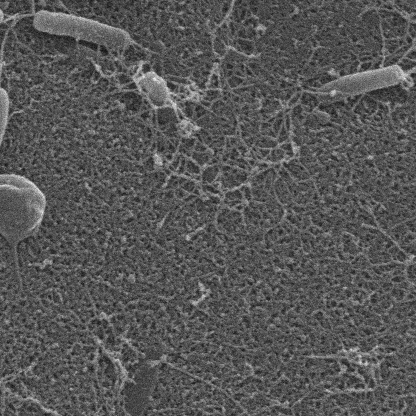cell2cell: (0, 12, 41, 25), (0, 0, 2, 21)
cell2surface: (0, 12, 30, 83), (274, 78, 337, 94), (380, 0, 392, 74), (217, 0, 252, 18), (403, 46, 416, 74)
regular: (37, 14, 130, 55), (319, 69, 405, 103), (0, 90, 3, 169)
spheroplast: (0, 178, 42, 240)
